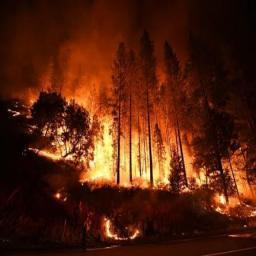Heavy smoke: (0, 0, 250, 100)
Medium fire: (0, 36, 255, 220)
